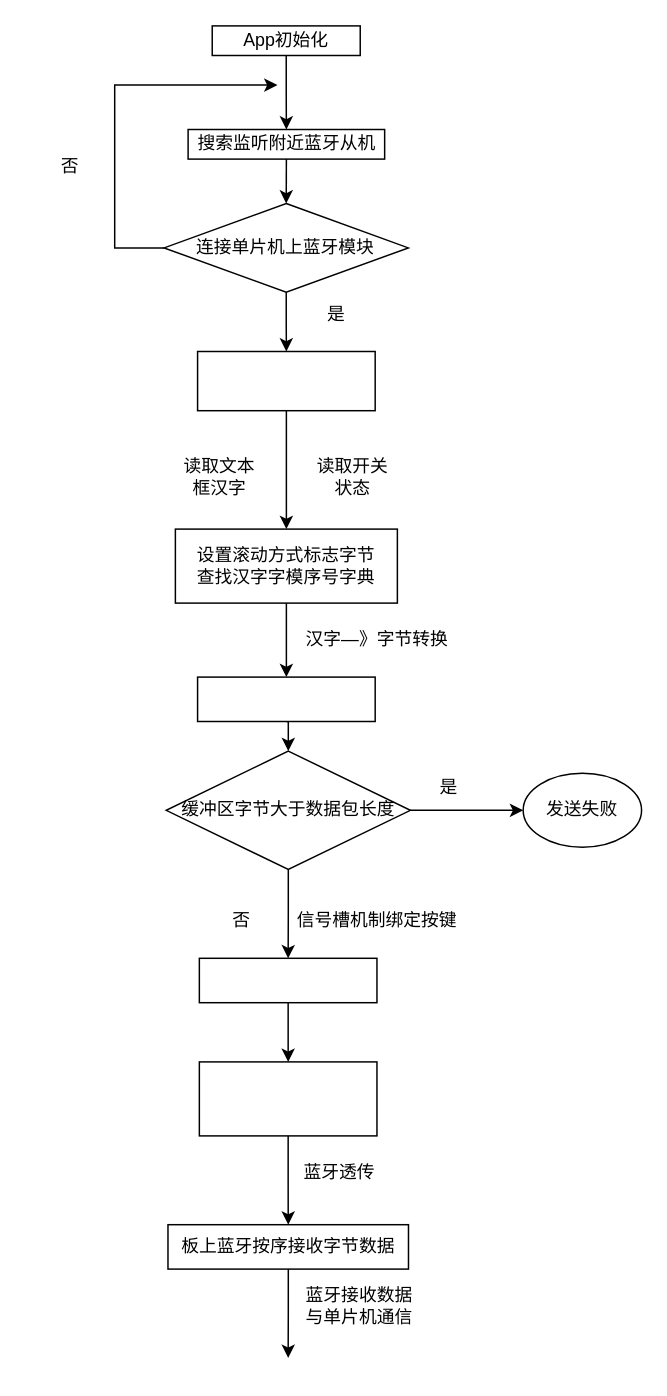
Image size: 667x1396. Some labels were removed from this diagram. The shapes that lost their labels are listed below. From the top down, each one's centre as x and y in pixels, then its label:
At pixel 285 380: "滚动方式切换开关 汉字输入文本框".
At pixel 285 699: "按序存入发送缓冲区".
At pixel 287 980: "点击发送按钮".
At pixel 287 1098: "程序将结束符 0x0d 0x0a 按序推入数据包末尾".
